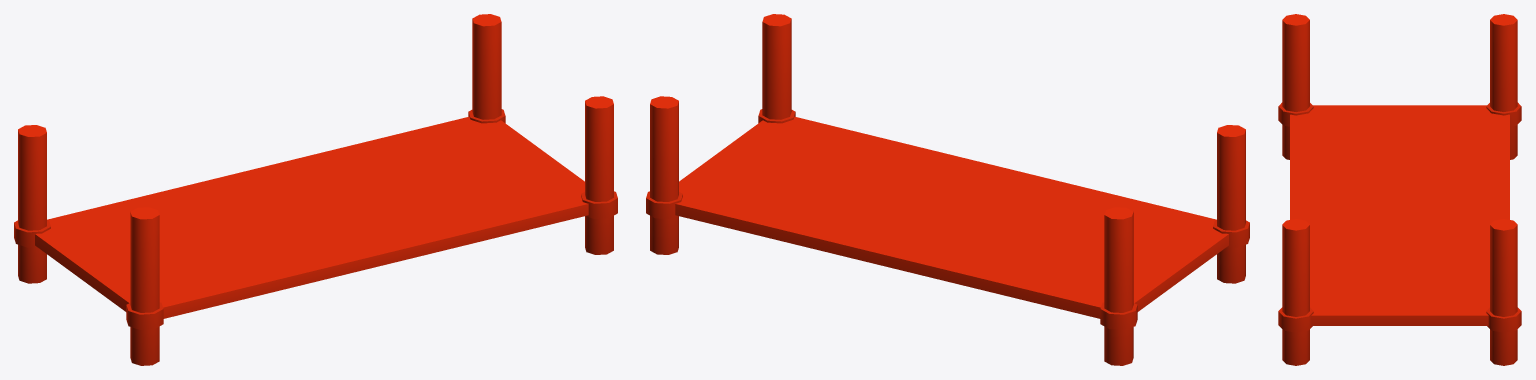
File: Table_Leg_01_D_C04.fbx
3 renders of one model, left to right at view 1: azimuth 30°, elevation 25°; view 2: azimuth 150°, elevation 25°; view 3: azimuth 270°, elevation 25°, orthographic. The views are drawn at different scales.
Parts seen in each view (by area): view 1: Table_Leg_01_D_C04; view 2: Table_Leg_01_D_C04; view 3: Table_Leg_01_D_C04.
Part boxes in pixels (bbox=[...]): Table_Leg_01_D_C04: bbox=[14, 14, 617, 365]; Table_Leg_01_D_C04: bbox=[646, 14, 1249, 365]; Table_Leg_01_D_C04: bbox=[1278, 14, 1521, 365].
Bounding box in the file's own units: 188 × 53.91 × 87.78.
